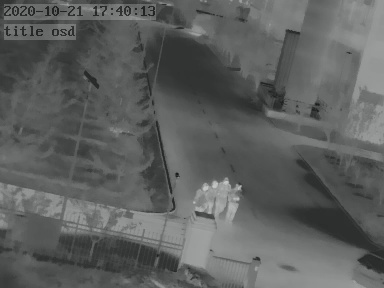person: (191, 179, 208, 221), (210, 177, 226, 221), (228, 182, 244, 224)
